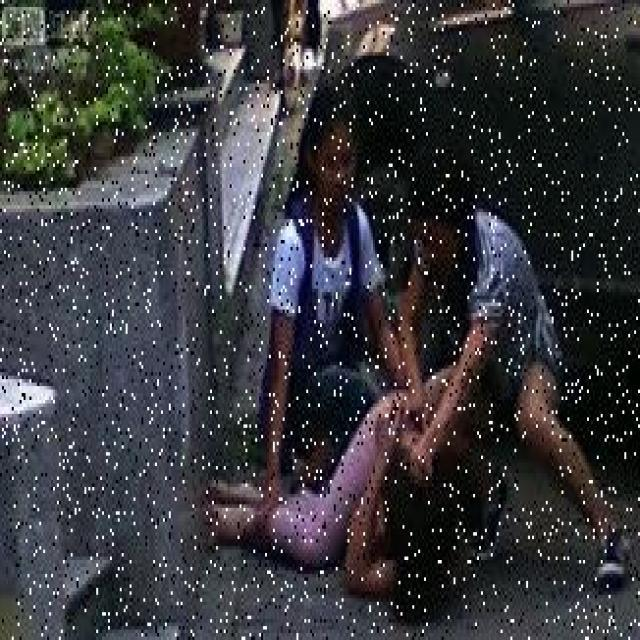fall: (228, 411, 476, 598)
